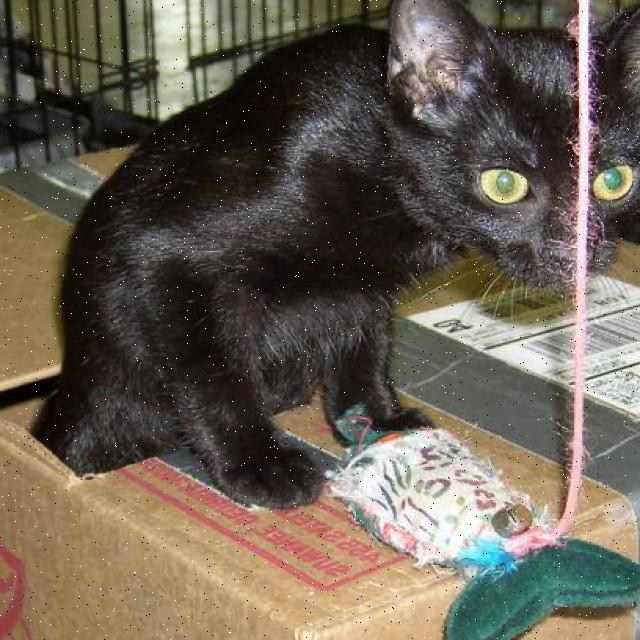Cat: (387, 0, 640, 294)
